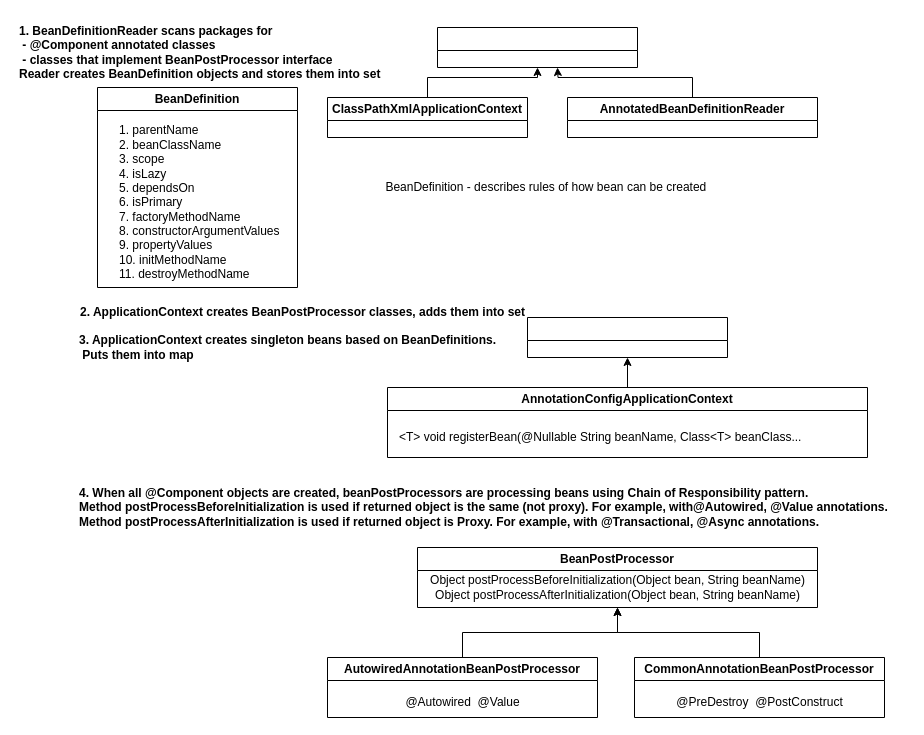
This 924x735 diagram has some shape labels left out. Here are the shapes that lost their labels. From the top down, the centre of each, then its label:
At [537,47]: "BeanDefinitionReader".
At [627,337]: "ApplicationContext".
